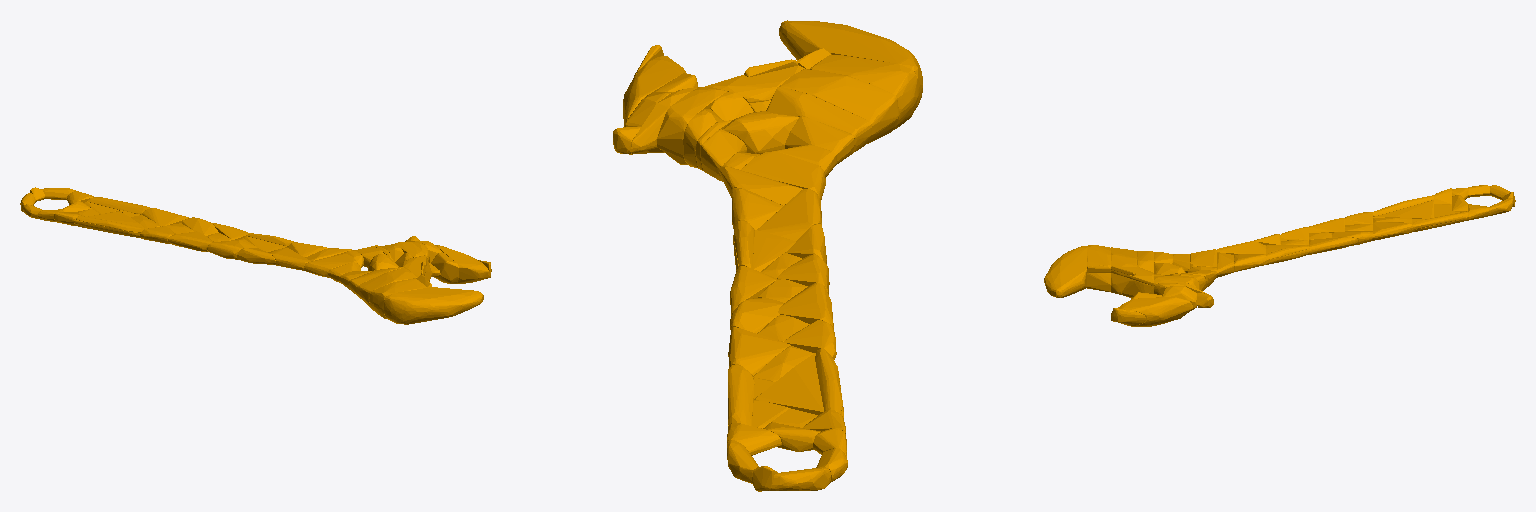
robot.urdf — 042_adjustable_wrench:
<?xml version="1.0" encoding="UTF-8"?>
<robot name="042_adjustable_wrench">
	<link name="base">
		<collision>
			<geometry>
				<mesh filename="..\vhacd\042_adjustable_wrench_vhacd.obj" scale="1.0 1.0 1.0"/>
			</geometry>
			<origin xyz="0 0 0"/>
			<contact_coefficients mu="0.24" />
		</collision>
		<visual>
			<geometry>
				<mesh filename="..\vhacd\042_adjustable_wrench_vhacd.obj" scale="1.0 1.0 1.0"/>
			</geometry>
			<origin xyz="0 0 0"/>
		</visual>
		<inertial>
			<mass value="0"/>
			<inertia ixx="0.0" ixy="0.0" ixz="-0.0" iyy="0.0" iyz="0.0" izz="0.0" />
			<origin xyz="0.014501462673940915 -0.049664842491847445 0.004250781004186364"/>
		</inertial>
	</link>
</robot>

--- What the picture shows (computed from the rendered views, not written in the file) ---
3 views of the same robot in one strip: view 1: azimuth 30°, elevation 25°; view 2: azimuth 150°, elevation 25°; view 3: azimuth 270°, elevation 25° (orthographic).
Model 042_adjustable_wrench with 1 links and 0 joints (none), rooted at base, posed all joints at 0.
Visible links, largest first — view 1: base; view 2: base; view 3: base.
Link boxes in pixels (x1,y1,x2,y2): base: (20, 187, 491, 324); base: (613, 20, 922, 491); base: (1044, 185, 1515, 326).
Size in the robot's own frame: 0.1249 by 0.1812 by 0.0148 metres.
Meshes: 1 distinct files referenced, 1 mesh visuals loaded (1 OBJ).